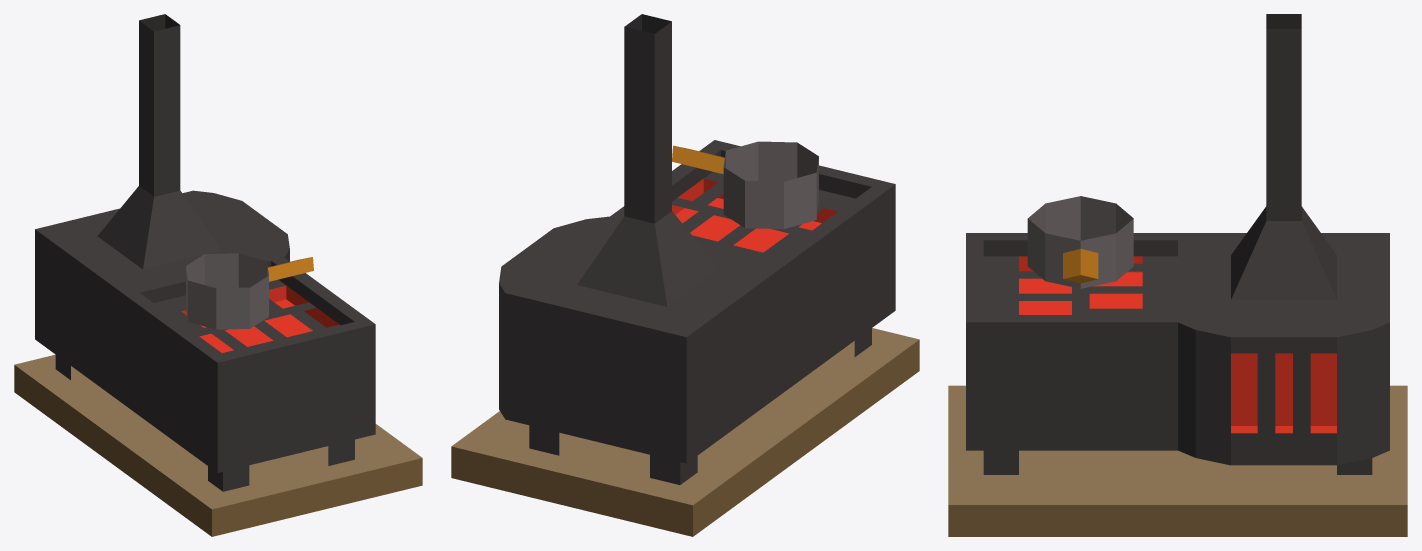
3 renders of one model, left to right at view 1: azimuth 30°, elevation 25°; view 2: azimuth 150°, elevation 25°; view 3: azimuth 270°, elevation 25°, orthographic. The views are drawn at different scales.
Size of the model in its own units: 128 by 224 by 208.
1 material, 1 textured.
